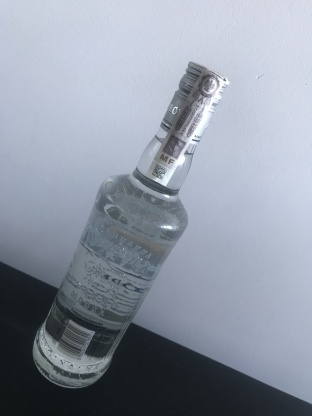nakretka: (158, 58, 231, 148)
